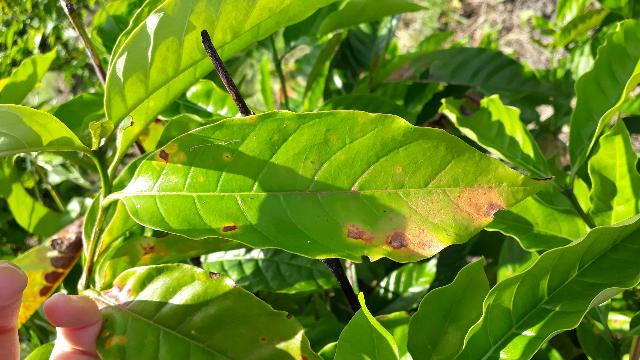rust_level_1: (120, 109, 556, 264)
